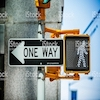green: (73, 38, 86, 67)
